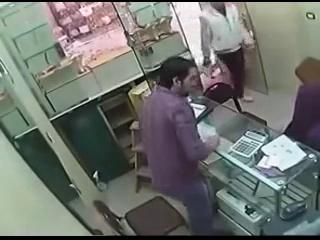Normal: (139, 57, 220, 234), (198, 3, 254, 100)
